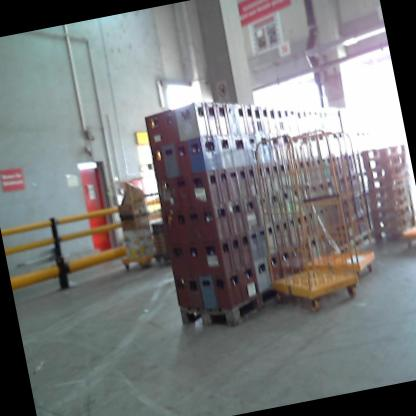pallet: (174, 286, 282, 335), (357, 159, 409, 186), (355, 151, 410, 176), (368, 199, 416, 224), (366, 179, 412, 205), (372, 220, 416, 247), (364, 189, 413, 212), (356, 138, 408, 159), (371, 209, 416, 233), (366, 170, 411, 191)
